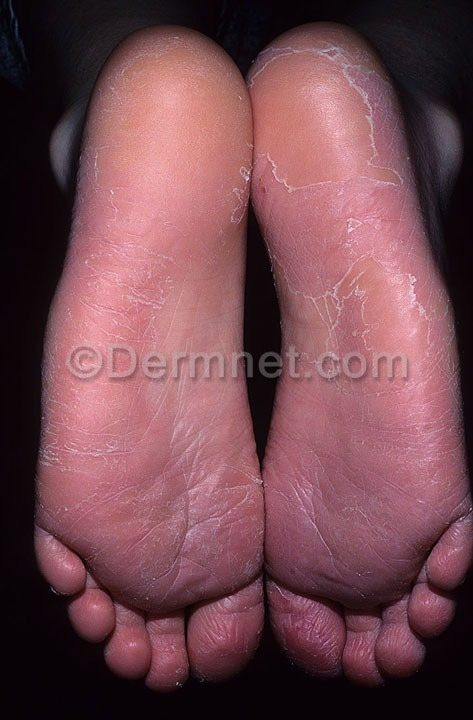Eczema: (51, 22, 263, 686), (260, 27, 467, 671)
